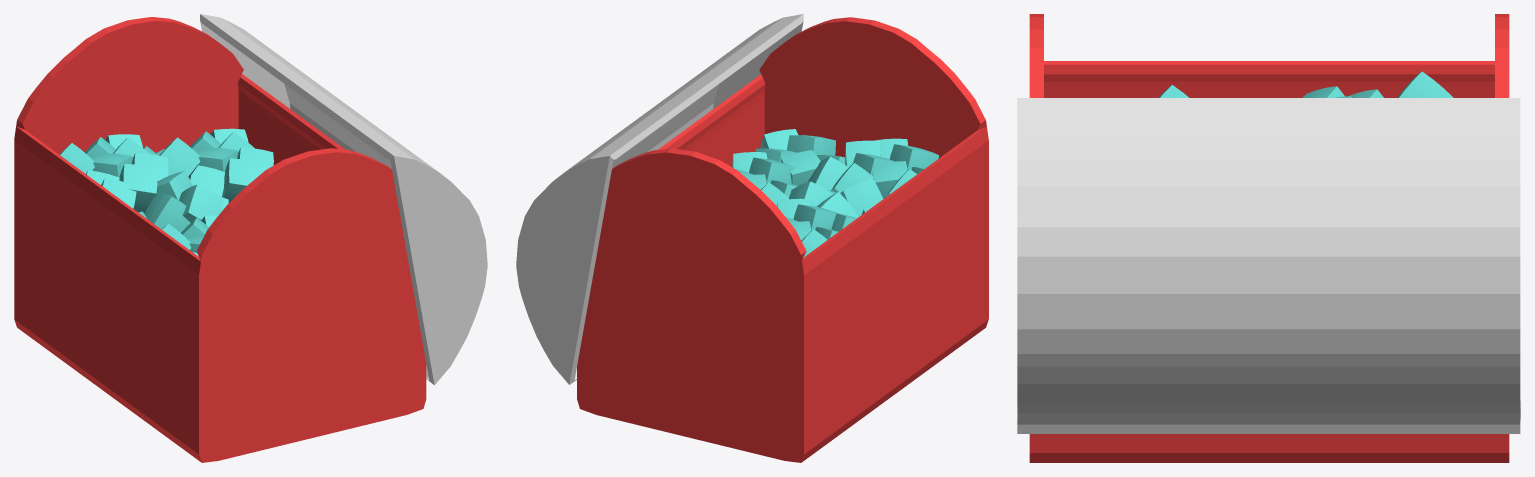
Rendered from cooler.glb.
3 renders of one model, left to right at view 1: azimuth 30°, elevation 25°; view 2: azimuth 150°, elevation 25°; view 3: azimuth 270°, elevation 25°, orthographic. The views are drawn at different scales.
Visible parts, largest first — view 1: Cooler, Lid, Cube; view 2: Cooler, Lid, Cube; view 3: Lid, Cooler, Cube.
Part boxes in pixels (<box>): Cooler: <box>14,17,426,462</box>; Lid: <box>200,14,487,385</box>; Cube: <box>59,128,273,256</box>; Cooler: <box>577,17,988,462</box>; Lid: <box>516,14,803,384</box>; Cube: <box>732,129,938,257</box>; Lid: <box>1017,98,1520,433</box>; Cooler: <box>1029,14,1509,462</box>; Cube: <box>1158,71,1453,97</box>.
Bounding box in the file's own units: 2.4 × 2.28 × 2.84.
